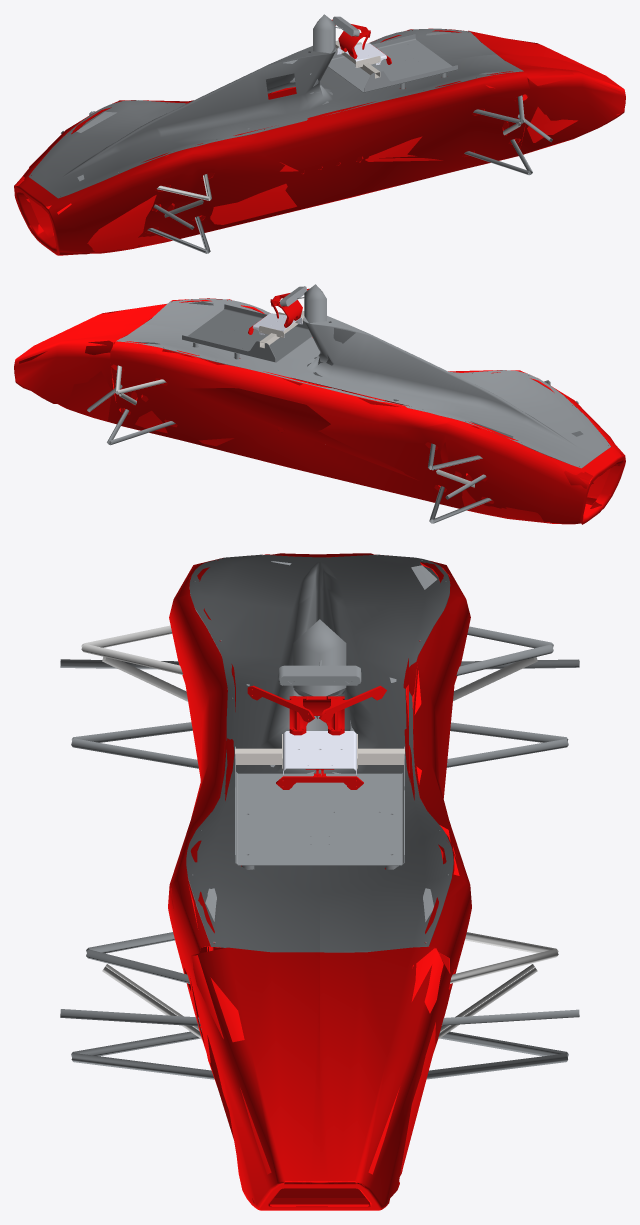
The model's file is ads_dv_chassis.dae.
3 renders of one model, top to bottom at view 1: azimuth 30°, elevation 25°; view 2: azimuth 150°, elevation 25°; view 3: azimuth 270°, elevation 25°, orthographic. The views are drawn at different scales.
Visible parts, largest first — view 1: mesh1700, mesh1478, mesh1757, mesh1714, mesh1923, mesh1963, mesh1699, mesh1904, mesh11, mesh1679, mesh1470, mesh1713 (+25 smaller); view 2: mesh1620, mesh1503, mesh1731, mesh1621, mesh1927, mesh1910, mesh1762, mesh11, mesh1891, mesh1492, mesh1427, mesh1904 (+26 smaller); view 3: mesh1750, mesh1755, mesh11, mesh1927, mesh1923, mesh1478, mesh1503, mesh1756, mesh1751, mesh1850, mesh1851, mesh1904 (+38 smaller).
Part boxes in pixels (x1=…): mesh1700: x1=179, y1=96, x2=484, y2=238; mesh1478: x1=189, y1=78, x2=484, y2=163; mesh1757: x1=520, y1=87, x2=625, y2=154; mesh1714: x1=81, y1=164, x2=193, y2=252; mesh1923: x1=163, y1=61, x2=472, y2=145; mesh1963: x1=173, y1=54, x2=327, y2=113; mesh1699: x1=192, y1=114, x2=479, y2=224; mesh1904: x1=38, y1=107, x2=145, y2=182; mesh11: x1=328, y1=40, x2=452, y2=92; mesh1679: x1=469, y1=89, x2=529, y2=167; mesh1470: x1=70, y1=148, x2=194, y2=211; mesh1713: x1=88, y1=185, x2=174, y2=252; mesh1620: x1=154, y1=366, x2=460, y2=508; mesh1503: x1=154, y1=347, x2=450, y2=433; mesh1731: x1=445, y1=434, x2=558, y2=522; mesh1621: x1=160, y1=384, x2=449, y2=492; mesh1927: x1=167, y1=331, x2=475, y2=415; mesh1910: x1=312, y1=324, x2=466, y2=383; mesh1762: x1=14, y1=357, x2=119, y2=424; mesh11: x1=187, y1=310, x2=311, y2=362; mesh1891: x1=494, y1=377, x2=600, y2=452; mesh1492: x1=445, y1=418, x2=569, y2=481; mesh1427: x1=110, y1=359, x2=170, y2=437; mesh1904: x1=457, y1=407, x2=586, y2=461; mesh1750: x1=228, y1=947, x2=319, y2=1180; mesh1755: x1=320, y1=947, x2=411, y2=1180; mesh11: x1=238, y1=773, x2=401, y2=864; mesh1927: x1=320, y1=597, x2=425, y2=893; mesh1923: x1=214, y1=597, x2=319, y2=893; mesh1478: x1=169, y1=594, x2=227, y2=884; mesh1503: x1=413, y1=594, x2=470, y2=884; mesh1756: x1=355, y1=946, x2=449, y2=1187; mesh1751: x1=189, y1=947, x2=284, y2=1187; mesh1850: x1=214, y1=881, x2=319, y2=952; mesh1851: x1=320, y1=881, x2=425, y2=952; mesh1904: x1=320, y1=556, x2=425, y2=609.
Size of the model in its own units: 2.81 by 1.08 by 0.774.
